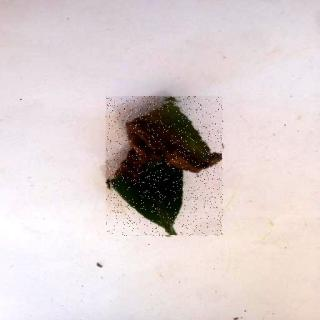Brown Blight: (107, 98, 225, 238)
